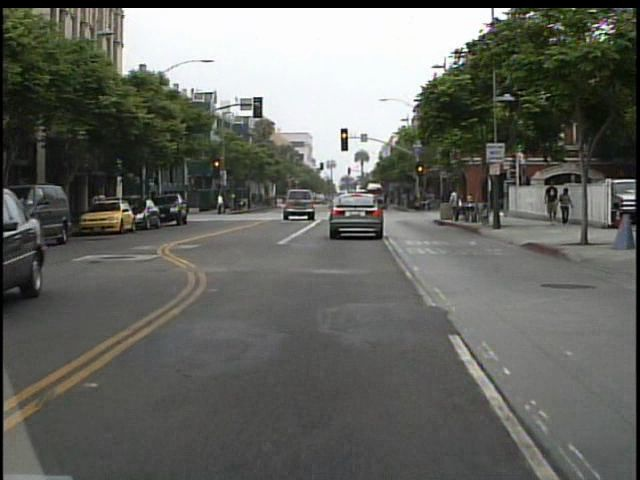person: (543, 181, 562, 227), (446, 186, 466, 225), (557, 186, 574, 228), (217, 189, 230, 217)
